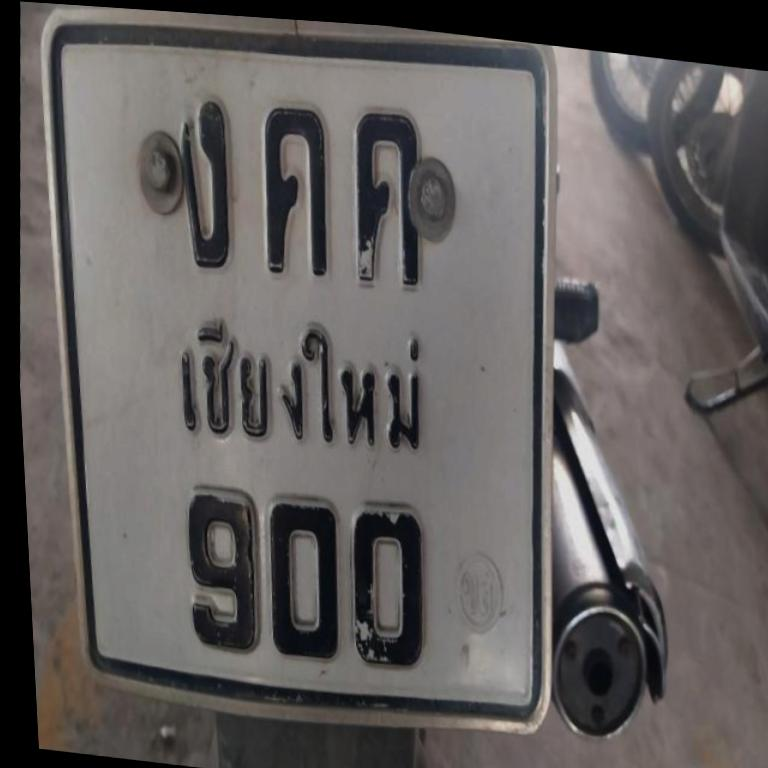license plate: (0, 0, 606, 756)
